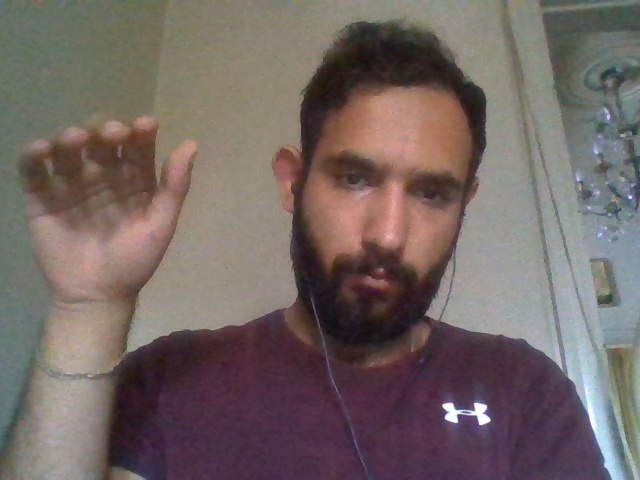Snake: (11, 102, 216, 480)
